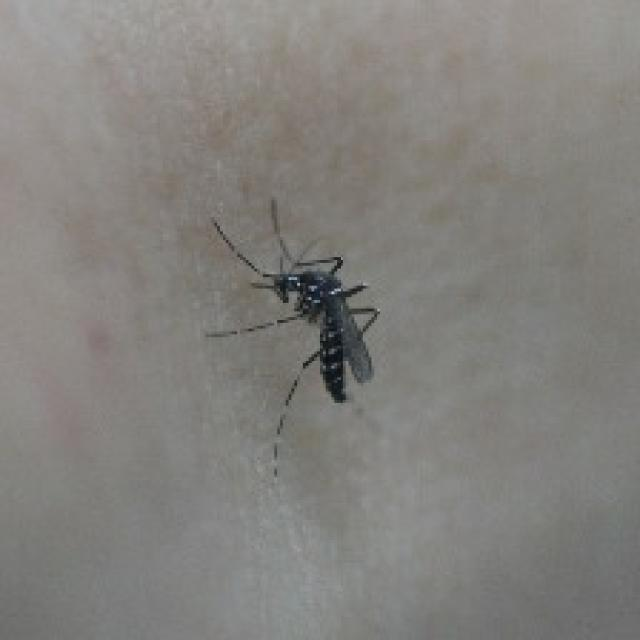aedes: (200, 194, 380, 477)
